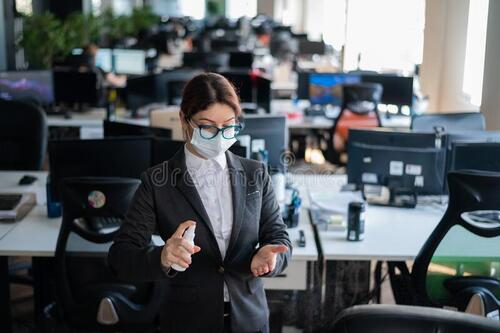sanitizer: (178, 223, 196, 271)
